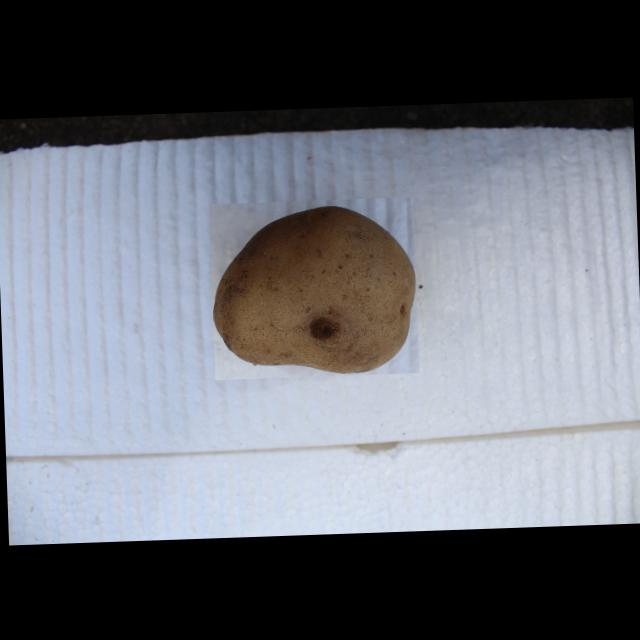Damaged potato: (208, 195, 418, 378)
